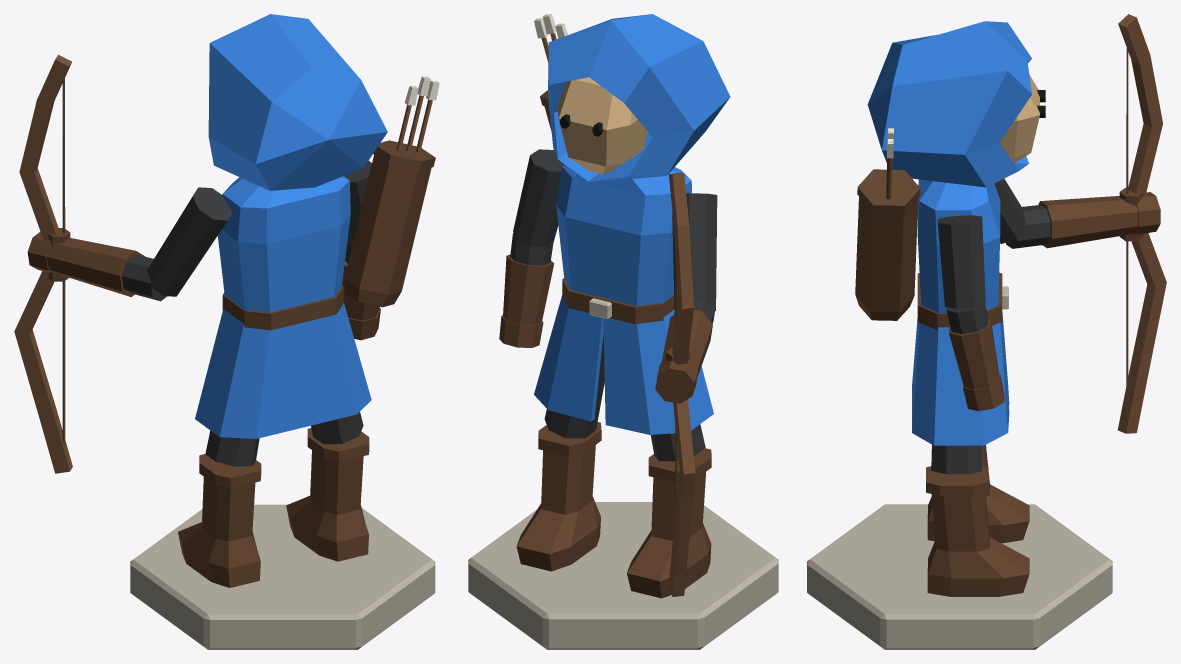
Rendered from human_archer_t1.glb.
3 views of the same model, side by side, from view 1: azimuth 30°, elevation 25°; view 2: azimuth 150°, elevation 25°; view 3: azimuth 270°, elevation 25° (orthographic).
Parts seen in each view (by area): view 1: Foundation_Hexagonal_Stone, Pointed_Open_Hood_Shell, Continuous_Split_Tunic_Skirt, Continuous_Tunic_Bodice, Single_Right_Back_Quiver, Continuous_Recurve_Bow, Boot_1, Boot_-1, left_upper_sleeve, left_bracer, Waist_Belt, Trouser_-1 (+9 smaller); view 2: Foundation_Hexagonal_Stone, Pointed_Open_Hood_Shell, Continuous_Tunic_Bodice, Boot_1, Continuous_Recurve_Bow, Angular_Face, Boot_-1, Continuous_Split_Tunic_Skirt, Split_Tunic_Front_1, Split_Tunic_Front_-1, right_upper_sleeve, left_upper_sleeve (+10 smaller); view 3: Foundation_Hexagonal_Stone, Pointed_Open_Hood_Shell, Boot_1, Continuous_Recurve_Bow, Single_Right_Back_Quiver, Continuous_Split_Tunic_Skirt, Continuous_Tunic_Bodice, right_upper_sleeve, left_bracer, right_bracer, Boot_-1, Quiver_Mouth_Band (+10 smaller).
Part boxes in pixels (bbox=[...]): Foundation_Hexagonal_Stone: bbox=[130, 504, 435, 649]; Pointed_Open_Hood_Shell: bbox=[208, 14, 387, 190]; Continuous_Split_Tunic_Skirt: bbox=[195, 302, 371, 438]; Continuous_Tunic_Bodice: bbox=[218, 176, 350, 312]; Single_Right_Back_Quiver: bbox=[344, 145, 432, 307]; Continuous_Recurve_Bow: bbox=[14, 54, 72, 473]; Boot_1: bbox=[286, 450, 368, 561]; Boot_-1: bbox=[178, 477, 260, 587]; left_upper_sleeve: bbox=[147, 187, 232, 296]; left_bracer: bbox=[46, 237, 144, 296]; Waist_Belt: bbox=[222, 286, 343, 330]; Trouser_-1: bbox=[205, 430, 259, 466]; Foundation_Hexagonal_Stone: bbox=[468, 502, 778, 649]; Pointed_Open_Hood_Shell: bbox=[548, 14, 730, 181]; Continuous_Tunic_Bodice: bbox=[556, 164, 691, 305]; Boot_1: bbox=[516, 445, 600, 571]; Continuous_Recurve_Bow: bbox=[668, 173, 695, 596]; Angular_Face: bbox=[557, 77, 647, 174]; Boot_-1: bbox=[627, 472, 711, 598]; Continuous_Split_Tunic_Skirt: bbox=[534, 295, 713, 434]; Split_Tunic_Front_1: bbox=[547, 308, 603, 421]; Split_Tunic_Front_-1: bbox=[603, 318, 650, 434]; right_upper_sleeve: bbox=[513, 149, 564, 246]; left_upper_sleeve: bbox=[672, 193, 717, 310]; Foundation_Hexagonal_Stone: bbox=[807, 504, 1112, 649]; Pointed_Open_Hood_Shell: bbox=[867, 21, 1031, 187]; Boot_1: bbox=[927, 493, 1029, 596]; Continuous_Recurve_Bow: bbox=[1117, 14, 1166, 433]; Single_Right_Back_Quiver: bbox=[855, 170, 918, 320]; Continuous_Split_Tunic_Skirt: bbox=[912, 318, 1007, 445]; Continuous_Tunic_Bodice: bbox=[917, 179, 1000, 313]; right_upper_sleeve: bbox=[937, 215, 985, 308]; left_bracer: bbox=[1038, 196, 1138, 248]; right_bracer: bbox=[949, 317, 999, 389]; Boot_-1: bbox=[927, 445, 1029, 543]; Quiver_Mouth_Band: bbox=[857, 169, 920, 213].
Size of the model in its own units: 1.02 by 1.92 by 1.09.
